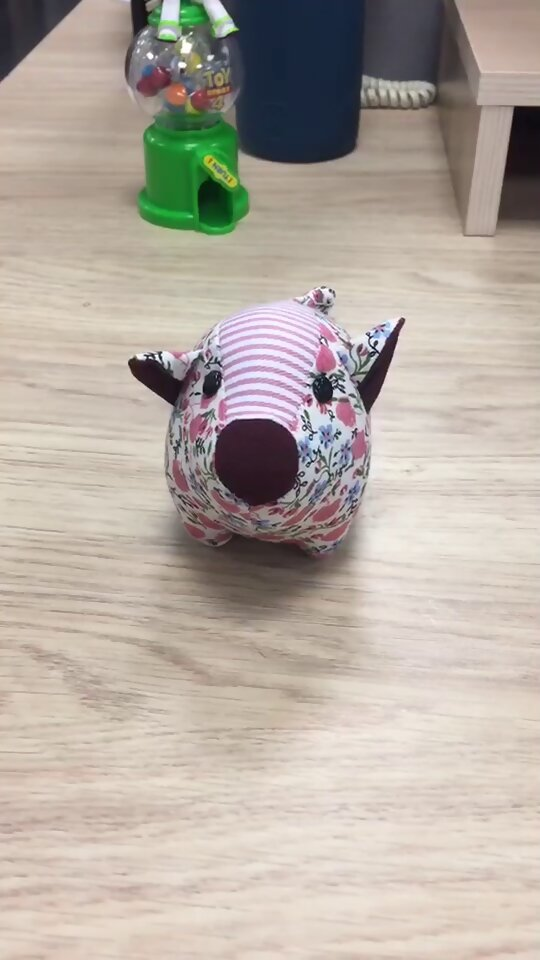buzz: (124, 278, 409, 564)
